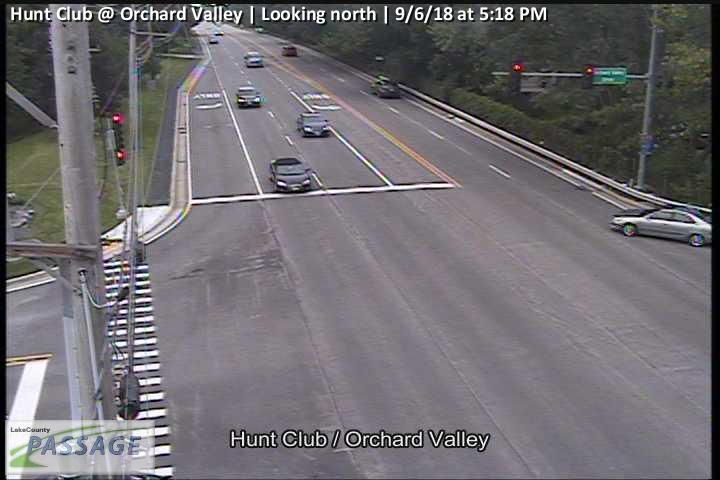Sedan: (609, 205, 712, 247), (268, 157, 311, 191), (297, 111, 330, 137), (372, 77, 400, 99), (235, 85, 261, 107), (245, 53, 264, 68), (281, 45, 297, 57), (214, 29, 224, 35), (209, 37, 218, 43)
